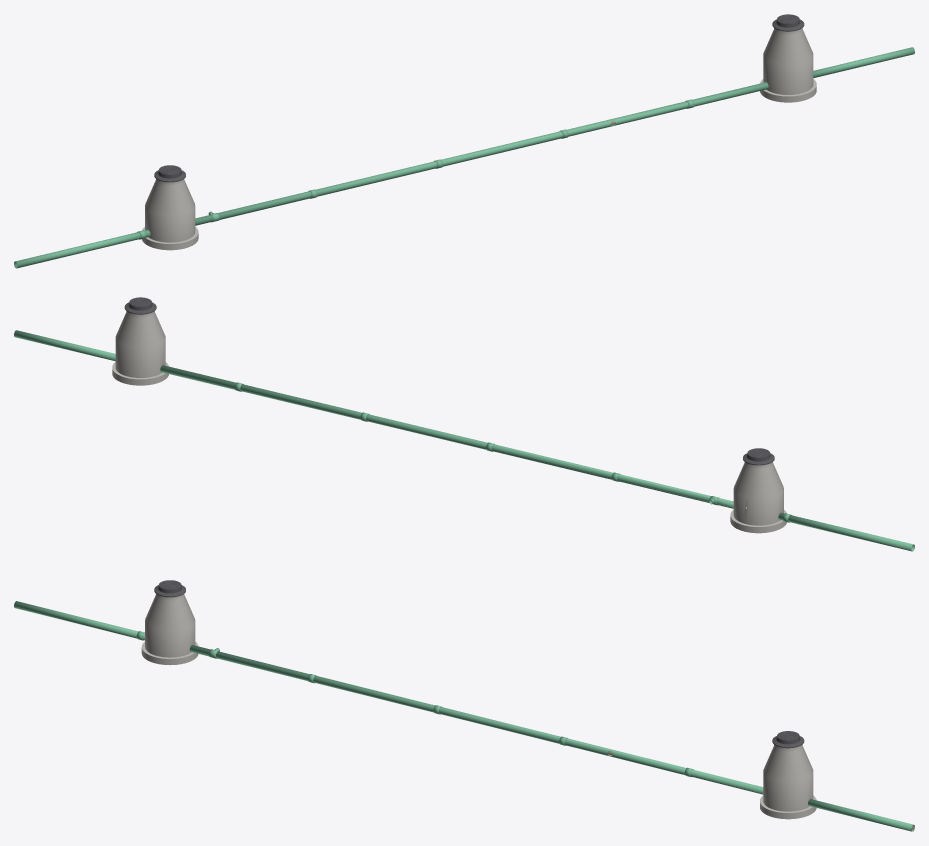
Rendered from pipes_dwv__sewer-city_gravity+city_lift+city_lift_duplex_or_commercial_lot-yes.glb.
3 renders of one model, top to bottom at view 1: azimuth 30°, elevation 25°; view 2: azimuth 150°, elevation 25°; view 3: azimuth 330°, elevation 25°, orthographic.
Parts seen in each view (by area): view 1: pipe_dwv_city_main, manhole_city_east, manhole_city_west; view 2: pipe_dwv_city_main, manhole_city_east, manhole_city_west; view 3: pipe_dwv_city_main, manhole_city_east, manhole_city_west.
Part boxes in pixels (left/top/right/bottom): pipe_dwv_city_main: left=14, top=47, right=914, bottom=268; manhole_city_east: left=760, top=28, right=816, bottom=102; manhole_city_west: left=142, top=179, right=198, bottom=250; pipe_dwv_city_main: left=14, top=330, right=914, bottom=551; manhole_city_east: left=112, top=311, right=168, bottom=385; manhole_city_west: left=730, top=462, right=786, bottom=533; pipe_dwv_city_main: left=14, top=601, right=914, bottom=831; manhole_city_east: left=760, top=744, right=816, bottom=819; manhole_city_west: left=141, top=594, right=198, bottom=665.
Bounding box in the file's own units: 30.48 × 2.32 × 1.67.
